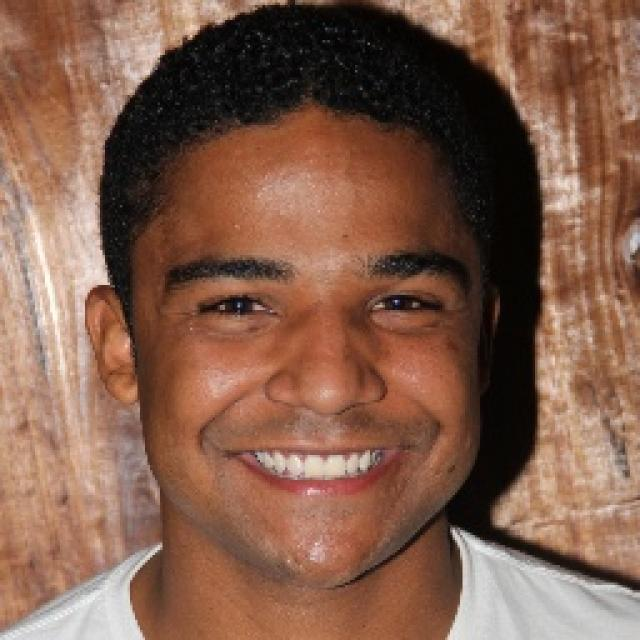earlobe: (84, 284, 144, 404), (476, 281, 502, 400)
